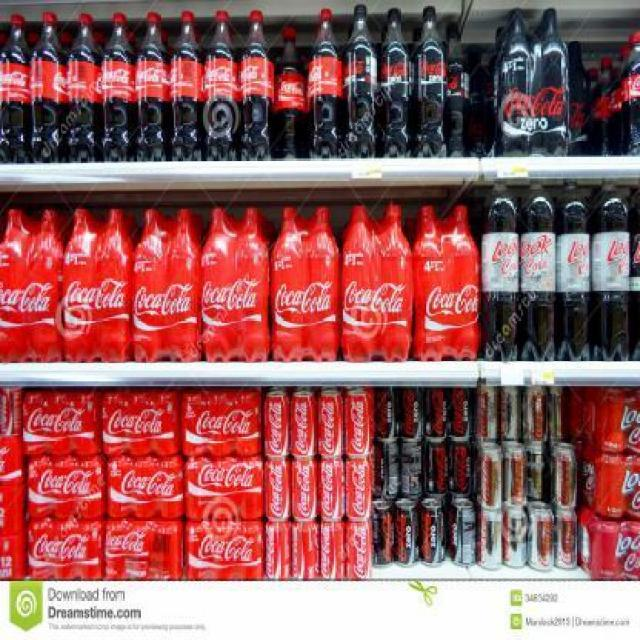Drinks: (341, 204, 413, 362), (271, 204, 340, 361), (63, 209, 132, 363), (133, 208, 201, 362), (201, 209, 269, 363), (414, 205, 480, 361), (0, 209, 62, 363), (179, 389, 261, 457), (31, 13, 67, 164), (308, 8, 344, 159), (66, 14, 102, 163), (238, 10, 274, 159), (535, 8, 571, 157), (344, 5, 378, 159), (23, 388, 100, 456), (412, 6, 446, 158), (379, 8, 413, 159), (102, 13, 136, 162), (136, 13, 170, 162), (169, 12, 203, 161), (205, 11, 239, 160), (502, 8, 536, 157), (103, 392, 180, 456), (26, 458, 104, 520), (106, 458, 184, 520), (105, 518, 183, 580), (185, 458, 263, 520), (184, 522, 264, 580), (0, 15, 31, 164), (27, 520, 105, 578), (274, 26, 308, 158), (449, 498, 477, 569), (527, 502, 555, 573), (263, 391, 291, 457), (290, 391, 318, 457), (317, 391, 345, 457), (344, 391, 372, 457), (264, 456, 292, 522), (550, 444, 578, 510), (420, 499, 446, 568), (291, 458, 319, 522), (317, 457, 345, 521), (344, 456, 372, 520), (475, 444, 503, 507), (476, 508, 504, 570), (372, 442, 401, 500), (264, 520, 292, 580), (319, 520, 347, 580), (395, 499, 419, 568), (371, 500, 395, 568), (292, 522, 320, 580), (345, 520, 373, 578), (503, 442, 527, 508), (474, 380, 498, 443), (399, 442, 425, 500), (522, 386, 548, 444), (504, 507, 528, 569), (525, 442, 549, 504), (554, 509, 578, 571), (424, 442, 450, 499), (375, 386, 399, 443), (400, 386, 424, 443), (450, 441, 474, 498), (425, 387, 449, 443), (449, 388, 473, 442), (500, 386, 522, 442), (548, 386, 570, 440), (0, 386, 23, 437)
